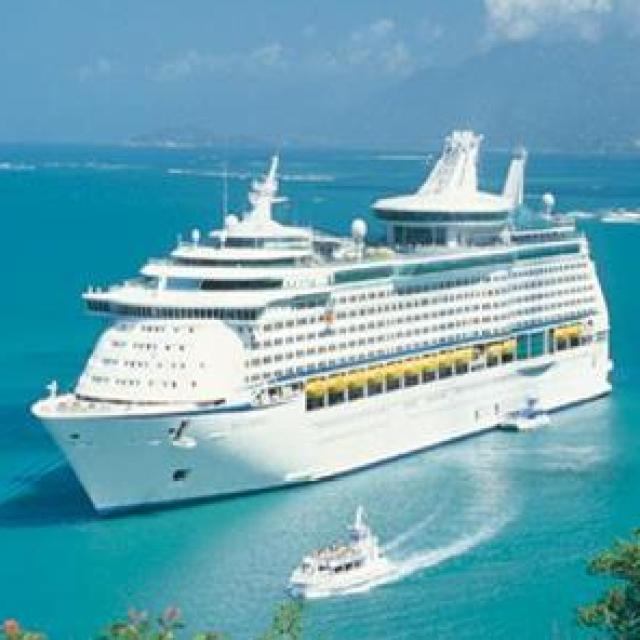passenger ship: (36, 136, 616, 509)
